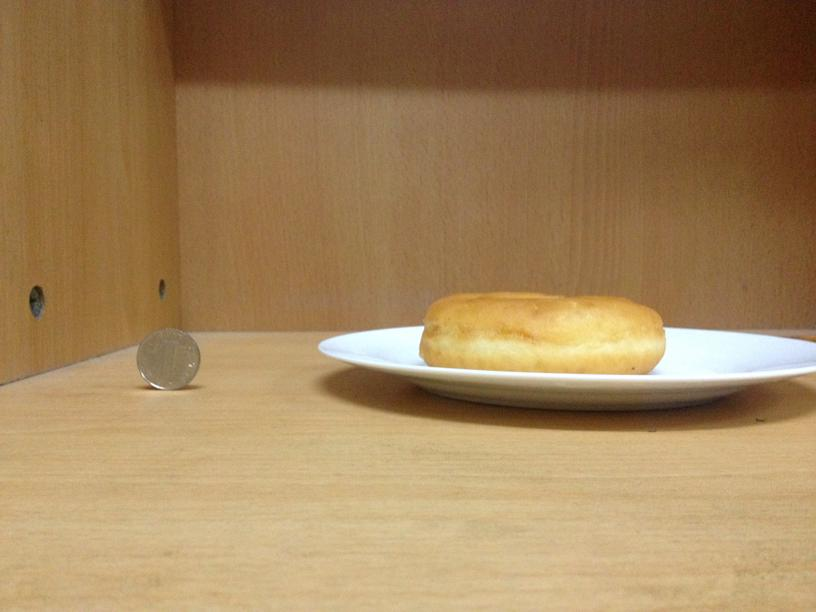coin: (134, 326, 200, 388)
doughnut: (413, 292, 667, 374)
